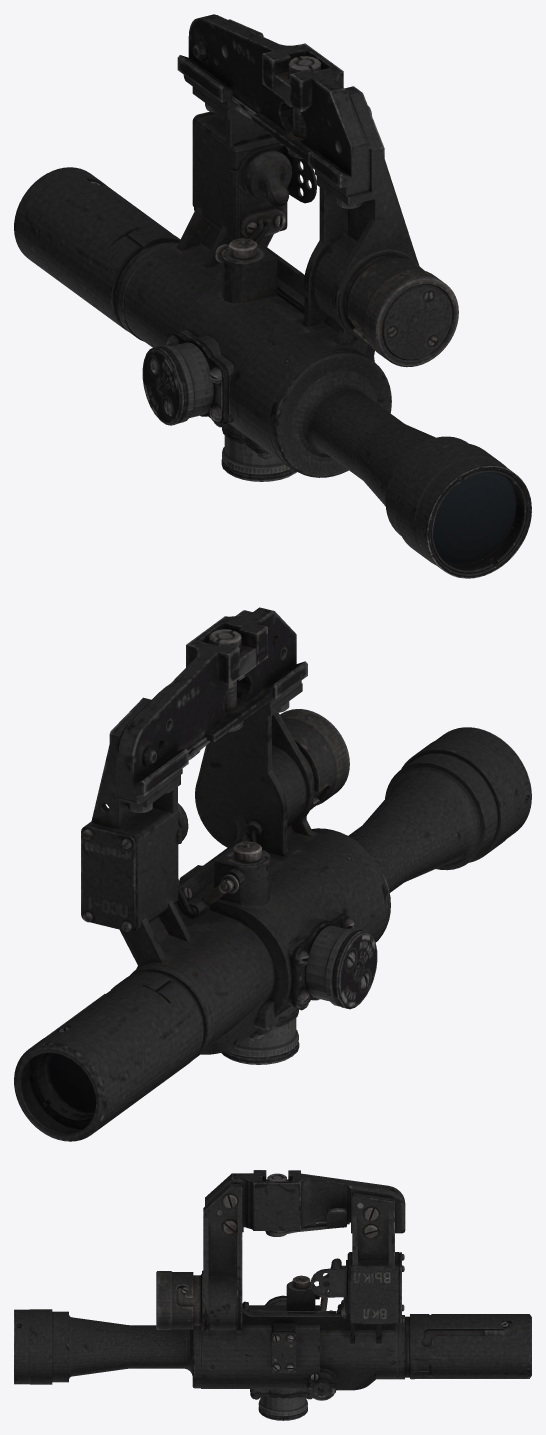
3 views of the same model, one above another, from view 1: azimuth 30°, elevation 25°; view 2: azimuth 150°, elevation 25°; view 3: azimuth 270°, elevation 25° (orthographic). The views are drawn at different scales.
Parts seen in each view (by area): view 1: TW_5c82342f2e221644f31c060e_mode1_PZ_Import; view 2: TW_5c82342f2e221644f31c060e_mode1_PZ_Import; view 3: TW_5c82342f2e221644f31c060e_mode1_PZ_Import.
Part boxes in pixels (x1,y1,x2,y2): TW_5c82342f2e221644f31c060e_mode1_PZ_Import: (14, 14, 531, 578); TW_5c82342f2e221644f31c060e_mode1_PZ_Import: (14, 607, 531, 1141); TW_5c82342f2e221644f31c060e_mode1_PZ_Import: (14, 1170, 531, 1420).
Bounding box in the file's own units: 0.0405 × 0.1488 × 0.0781.
Materials: 1 (1 with a texture image).
